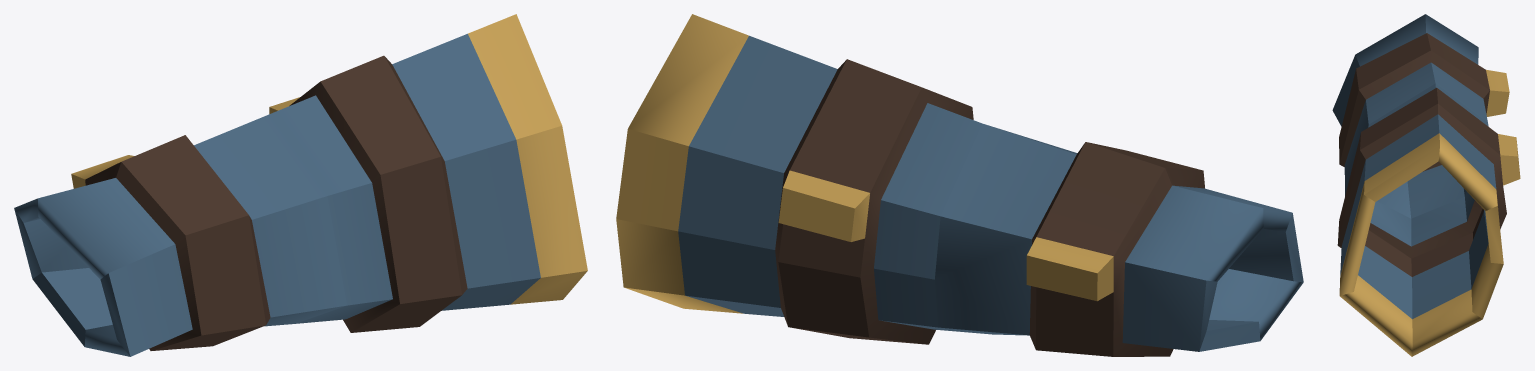
File: Chr_ArmLowerRight_Female_14_Drop.fbx
3 views of the same model, side by side, from view 1: azimuth 30°, elevation 25°; view 2: azimuth 150°, elevation 25°; view 3: azimuth 270°, elevation 25° (orthographic). The views are drawn at different scales.
Parts seen in each view (by area): view 1: Chr_ArmLowerRight_Female_14_Static; view 2: Chr_ArmLowerRight_Female_14_Static; view 3: Chr_ArmLowerRight_Female_14_Static.
Part boxes in pixels (x1,y1,x2,y2): Chr_ArmLowerRight_Female_14_Static: (14, 14, 587, 356); Chr_ArmLowerRight_Female_14_Static: (616, 14, 1303, 356); Chr_ArmLowerRight_Female_14_Static: (1332, 14, 1520, 356).
Bounding box in the file's own units: 23.5 × 12 × 10.12.
